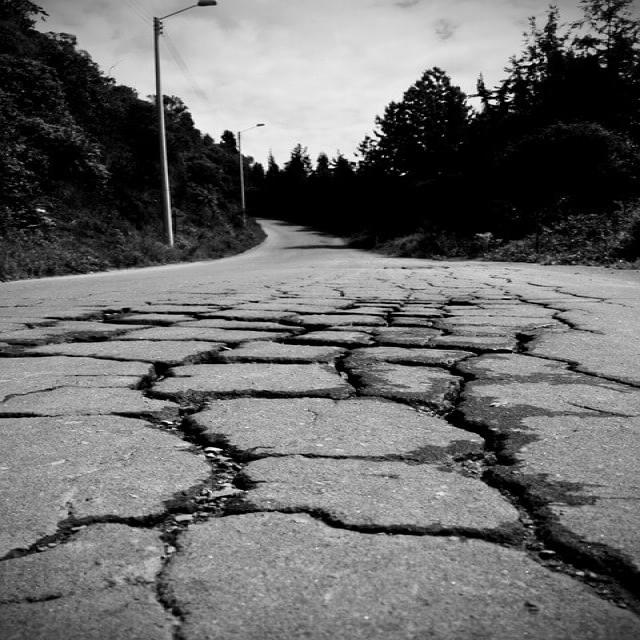Drain Hole: (143, 274, 640, 611)
